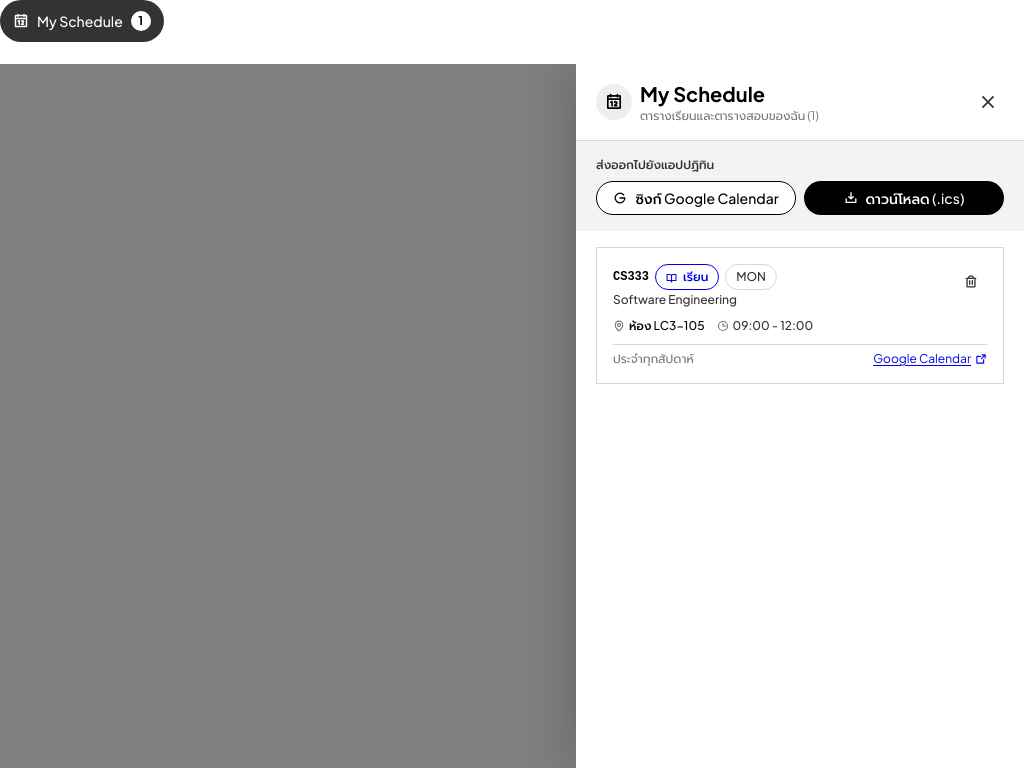
MyScheduleDrawer Component › Google Calendar sync › keeps the app usable and explains when the user denies consent
Step 1. Click the button with test id "sync-google-button" → (696, 198), box [596,181,796,215]
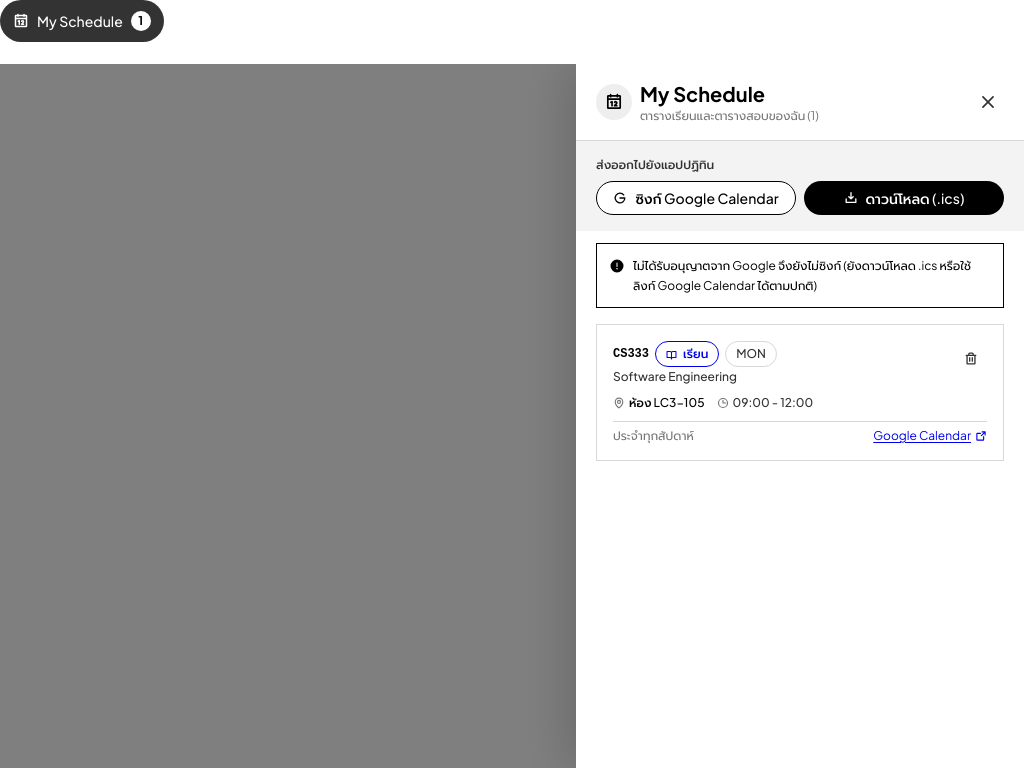
Expected: the button with test id "export-ics-button" is enabled, [804,181,1004,215]
Now the message shows "ไม่ได้รับอนุญาตจาก Google", box [633,258,971,292]
